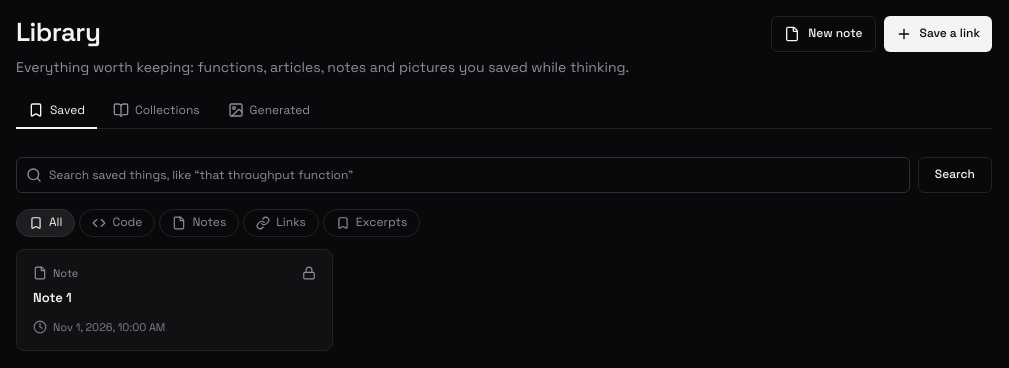
Test: searching sends what was typed as q, and Clear drops it
Expected: the heading "Note 1" is shown, [33,289,72,306]
Type "throughput" into the field labelled "Search saved things". click: (463,175)
box: [16,157,910,193]
Then press Enter
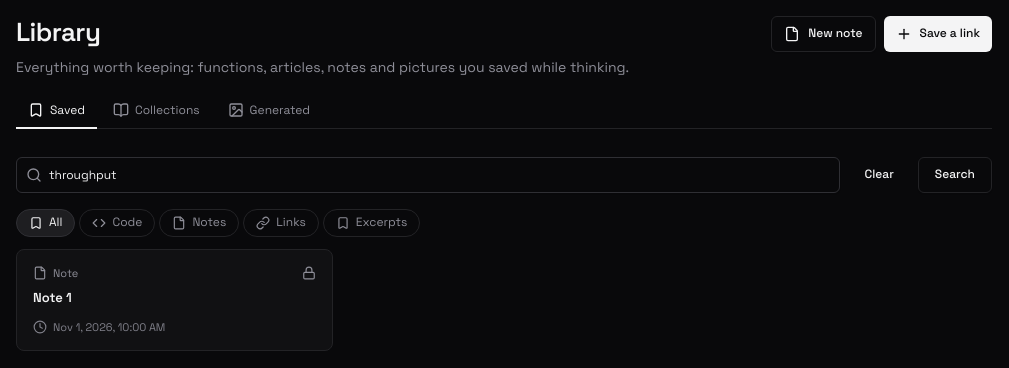
Click the button "Clear". click: (879,175)
box: [848,157,910,193]
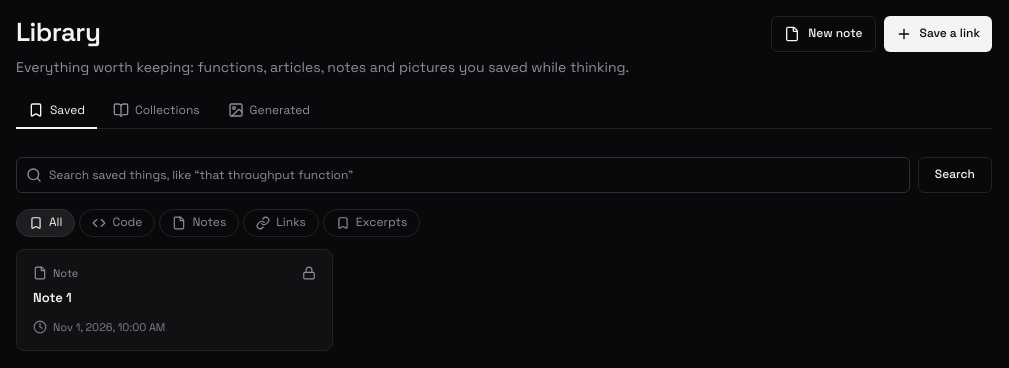
Expected: the field labelled "Search saved things" is empty, [16,157,910,193]
